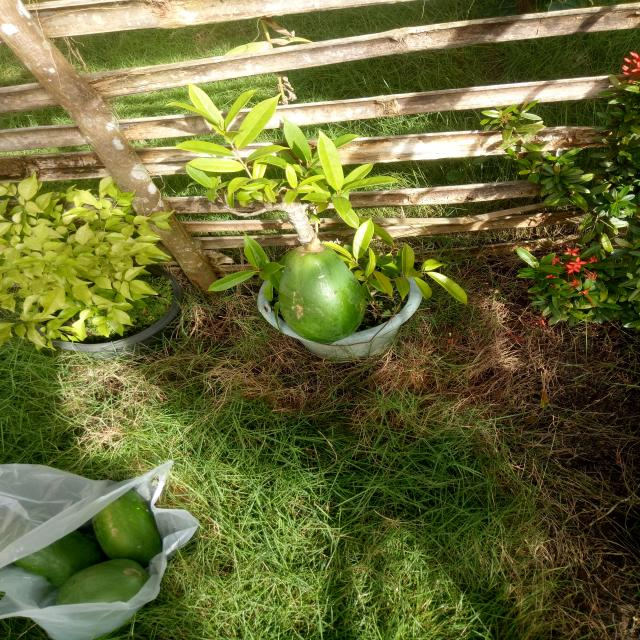Pepaya unrippen: (270, 244, 362, 344)
